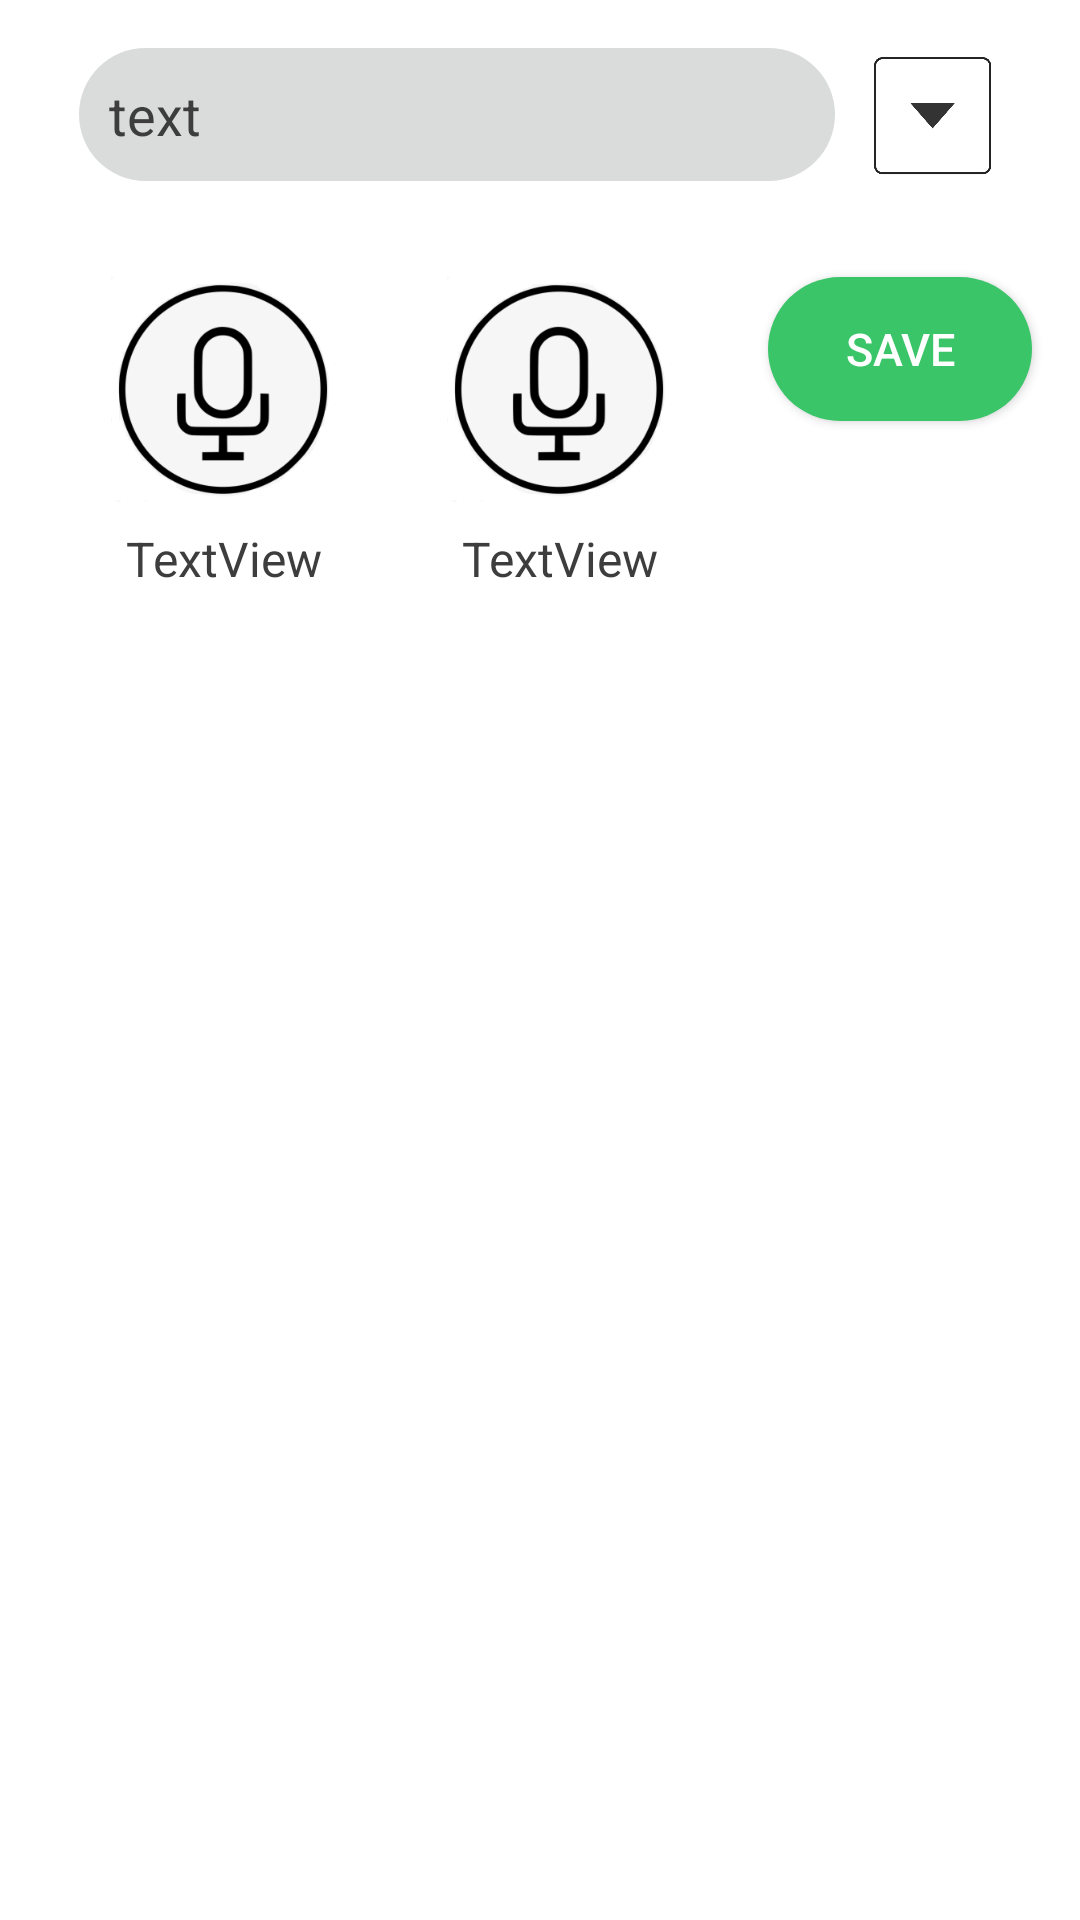

Icon click points for this 1080 x 1920 phone screenshot, format point (x, y):
before record not clicked: point (223, 389), point (559, 389)
down arrow: point (932, 115)
